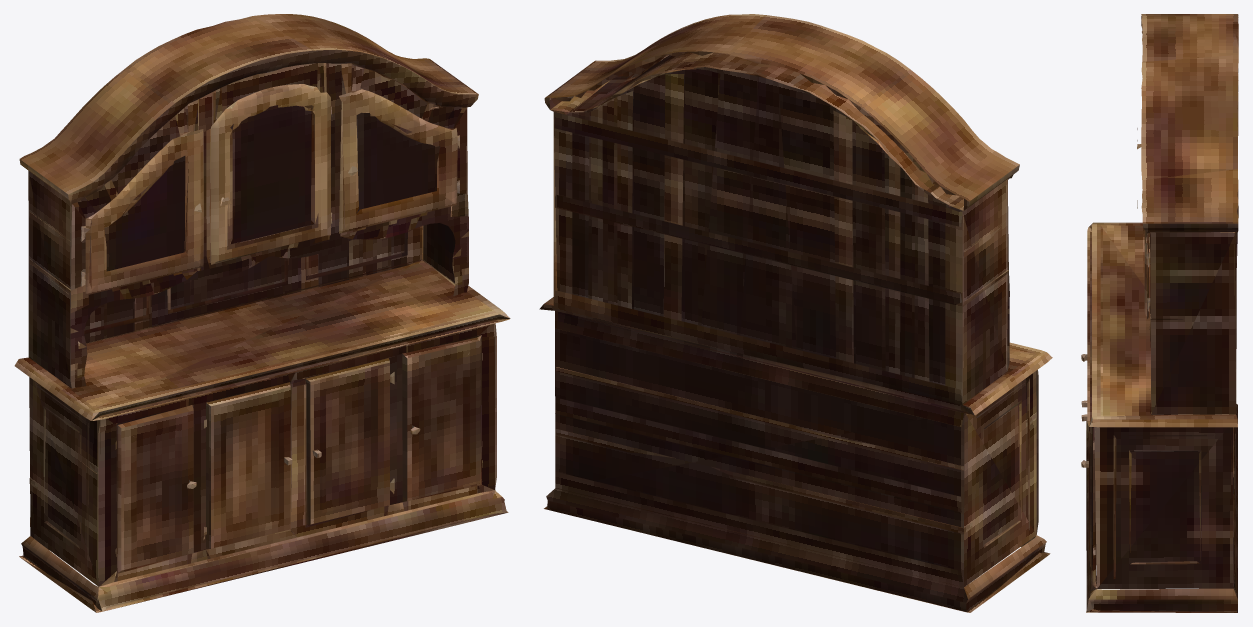
The model's file is gg_cabinet_vintage.glb.
The picture shows the model from 3 angles, left to right: view 1: azimuth 30°, elevation 25°; view 2: azimuth 150°, elevation 25°; view 3: azimuth 270°, elevation 25°; orthographic projection. The views are drawn at different scales.
Parts seen in each view (by area): view 1: mesh; view 2: mesh; view 3: mesh.
Boxes of the visible parts, x1,y1,x2,y2 form: mesh: [14, 14, 510, 612]; mesh: [539, 14, 1052, 612]; mesh: [1081, 14, 1238, 612].
Size of the model in its own units: 2.03 by 2.24 by 0.6704.
1 material, 1 textured.
